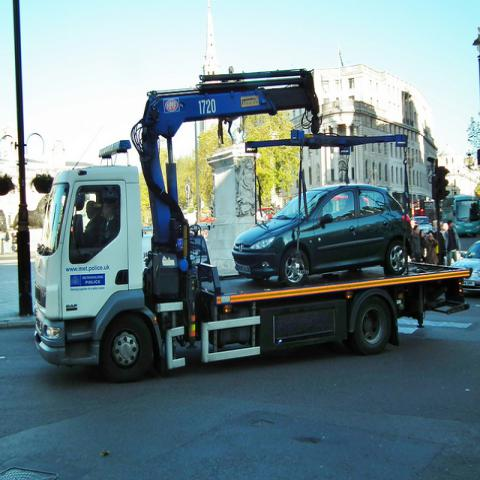bus: (442, 194, 480, 237)
car: (232, 184, 417, 285), (449, 239, 479, 292), (414, 216, 432, 234)
truck: (33, 74, 469, 382)
